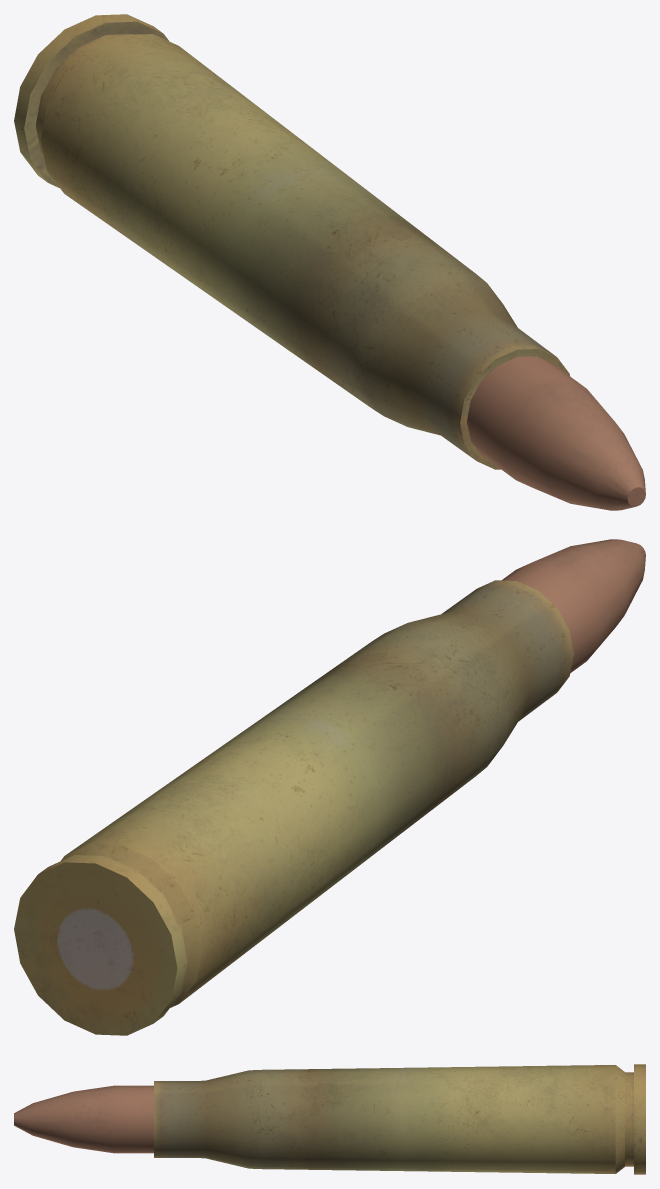
Rendered from 556_Combined.FBX.
3 views of the same model, one above another, from view 1: azimuth 30°, elevation 25°; view 2: azimuth 150°, elevation 25°; view 3: azimuth 270°, elevation 25° (orthographic). The views are drawn at different scales.
Parts seen in each view (by area): view 1: RND_556_Combined; view 2: RND_556_Combined; view 3: RND_556_Combined.
Part boxes in pixels (x1,y1,x2,y2): RND_556_Combined: [14, 14, 645, 510]; RND_556_Combined: [14, 539, 645, 1035]; RND_556_Combined: [14, 1064, 645, 1174].
Bounding box in the file's own units: 0.9826 × 0.9826 × 5.63.
